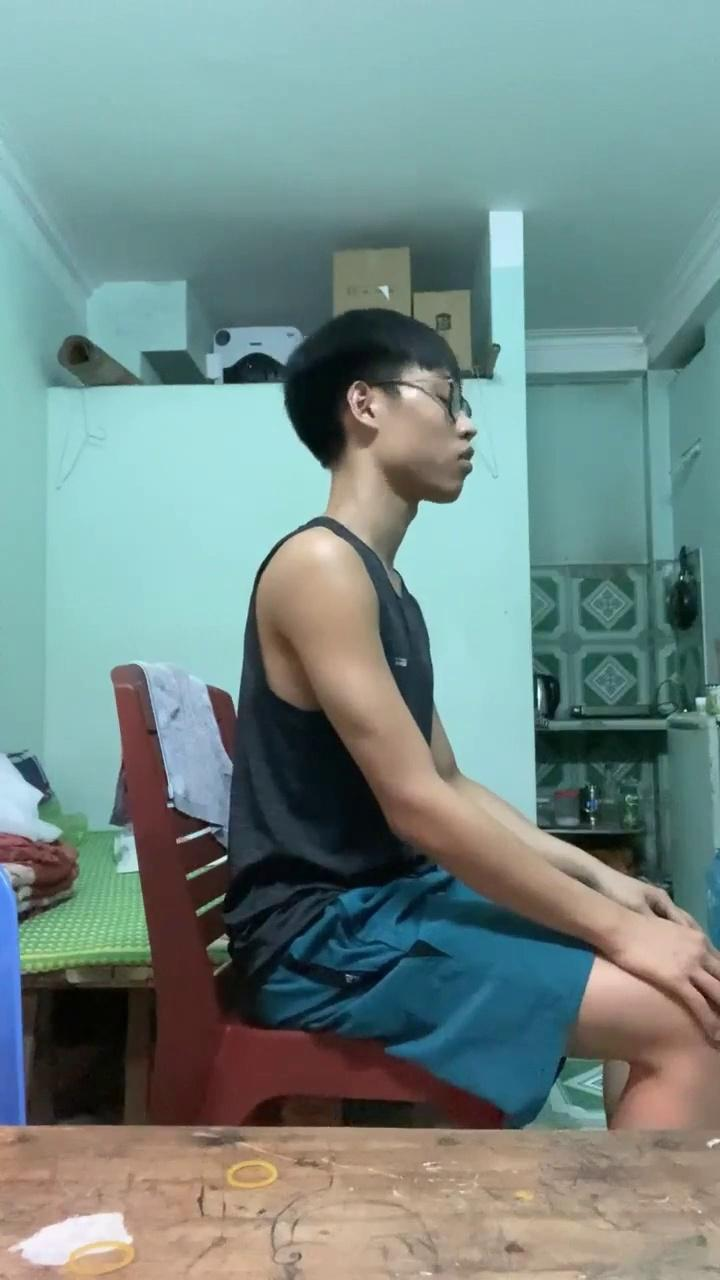GoodPosture: (224, 347, 719, 1130)
